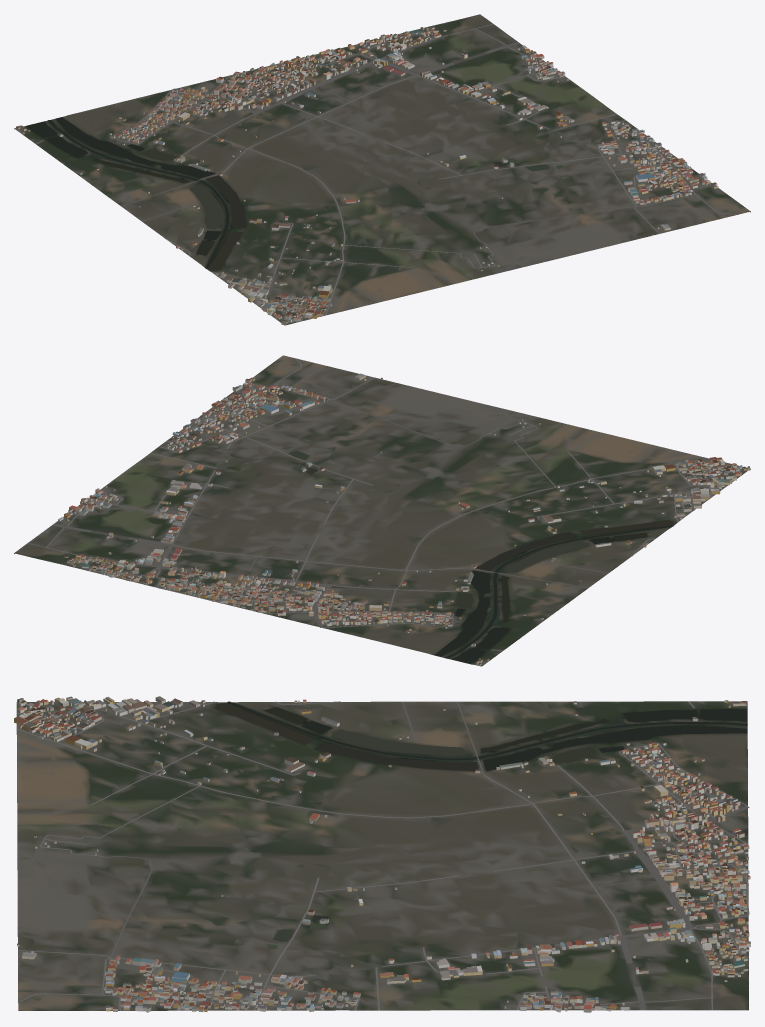
The picture shows the model from 3 angles, top to bottom: view 1: azimuth 30°, elevation 25°; view 2: azimuth 150°, elevation 25°; view 3: azimuth 270°, elevation 25°; orthographic projection. The views are drawn at different scales.
Parts seen in each view (by area): view 1: ground, buildings, water, roads; view 2: ground, buildings, water, roads; view 3: ground, buildings, water, roads.
Boxes of the visible parts, <box> form: ground: <box>14,14,750,325</box>; buildings: <box>16,27,718,324</box>; water: <box>26,117,562,270</box>; roads: <box>36,24,738,321</box>; ground: <box>14,355,750,666</box>; buildings: <box>58,373,750,665</box>; water: <box>283,446,673,663</box>; roads: <box>27,358,731,650</box>; ground: <box>16,701,748,1010</box>; buildings: <box>14,696,750,1012</box>; water: <box>214,701,747,948</box>; roads: <box>16,701,749,1010</box>.
Bounding box in the file's own units: 1420 × 19.52 × 1413.
